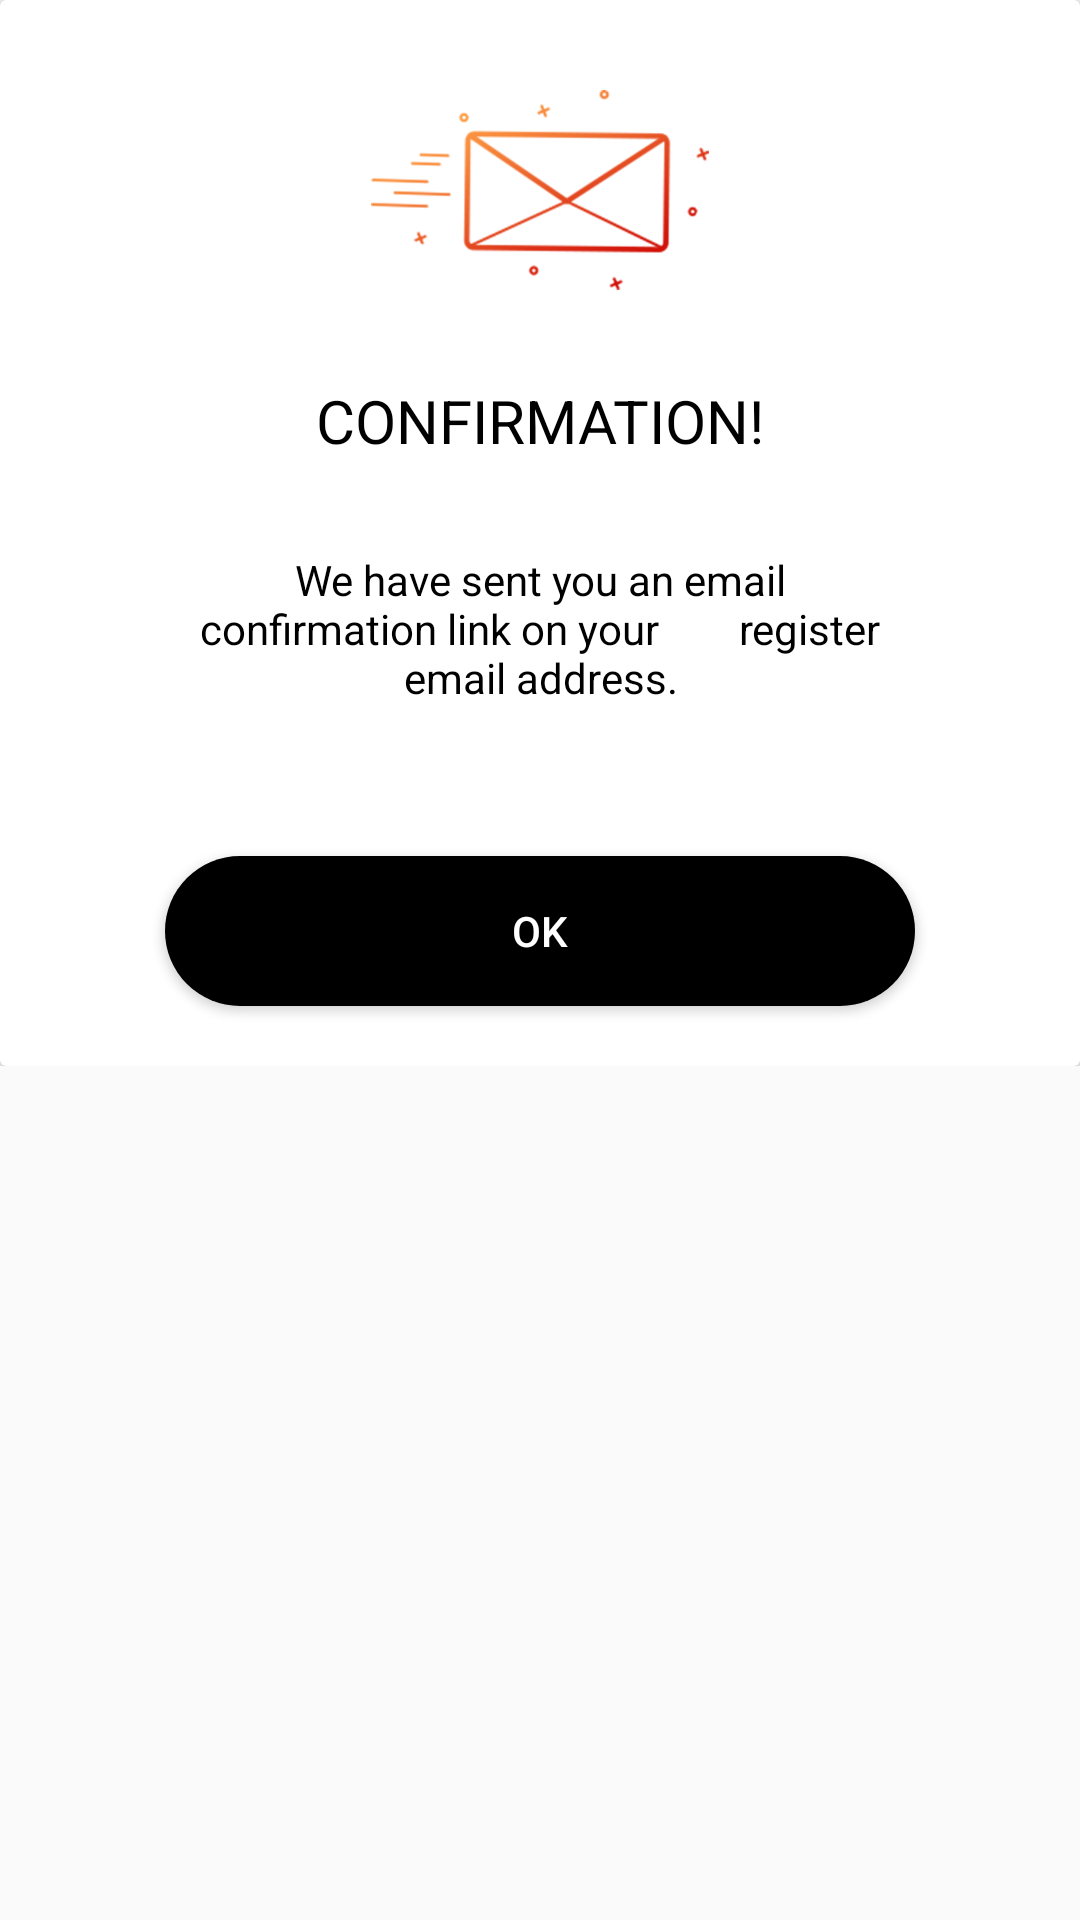

Where icons sit on this 1080w x 1920h app screen, as (x1, y1, x2, y2):
mail: (371, 90, 709, 290)
